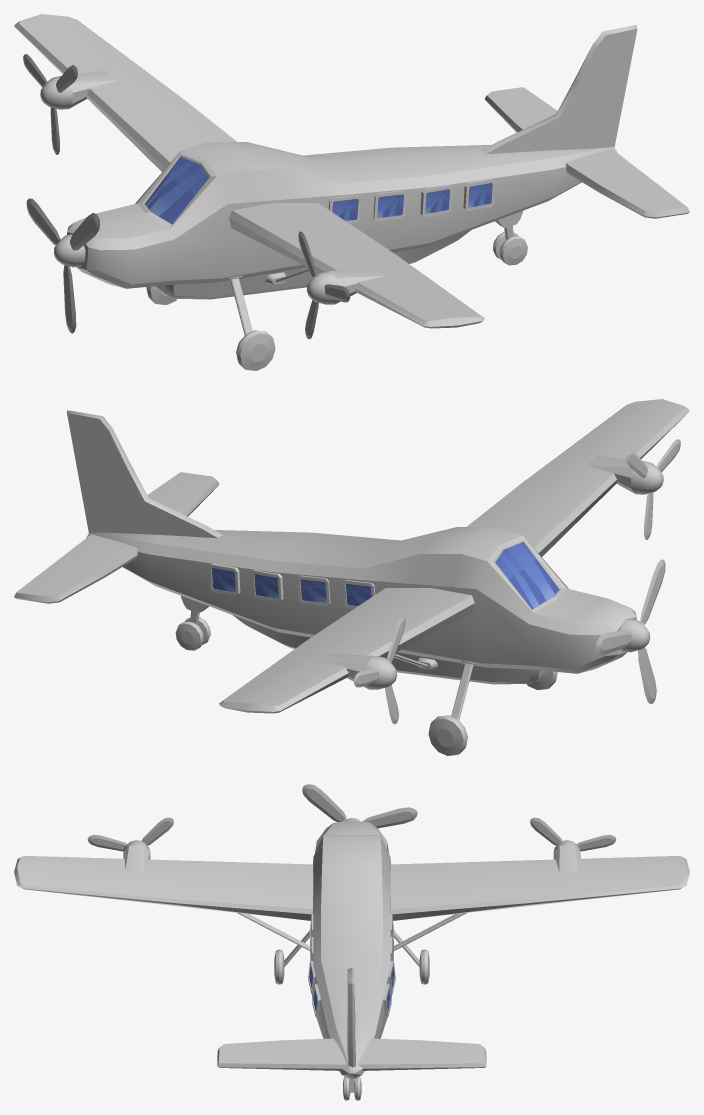
The picture shows the model from 3 angles, top to bottom: view 1: azimuth 30°, elevation 25°; view 2: azimuth 150°, elevation 25°; view 3: azimuth 270°, elevation 25°; orthographic projection. The views are drawn at different scales.
Visible parts, largest first — view 1: Plane_1_B, Propeler_F, Propeler_L, Propeler_R; view 2: Plane_1_B, Propeler_F, Propeler_R, Propeler_L; view 3: Plane_1_B, Propeler_F, Propeler_L, Propeler_R.
Part boxes in pixels (x1=…): Plane_1_B: x1=14, y1=14, x2=689, y2=370; Propeler_F: x1=26, y1=198, x2=99, y2=333; Propeler_L: x1=298, y1=231, x2=350, y2=339; Propeler_R: x1=23, y1=54, x2=77, y2=154; Plane_1_B: x1=14, y1=399, x2=689, y2=755; Propeler_F: x1=596, y1=559, x2=665, y2=703; Propeler_R: x1=353, y1=616, x2=405, y2=724; Propeler_L: x1=626, y1=439, x2=680, y2=539; Plane_1_B: x1=14, y1=818, x2=689, y2=1100; Propeler_F: x1=302, y1=784, x2=417, y2=828; Propeler_L: x1=87, y1=817, x2=173, y2=851; Propeler_R: x1=530, y1=817, x2=616, y2=851.
Size of the model in its own units: 18.45 by 6.38 by 22.98.
